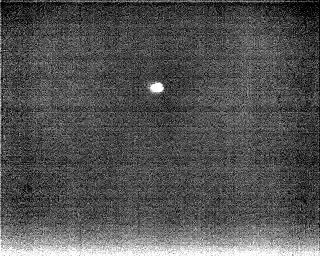AIRPLANE: (147, 80, 166, 96)
